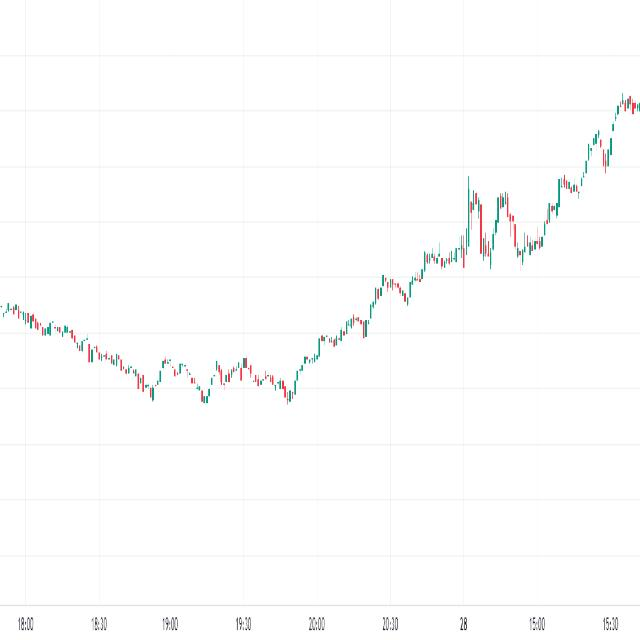Channel-up: (286, 197, 468, 425)
